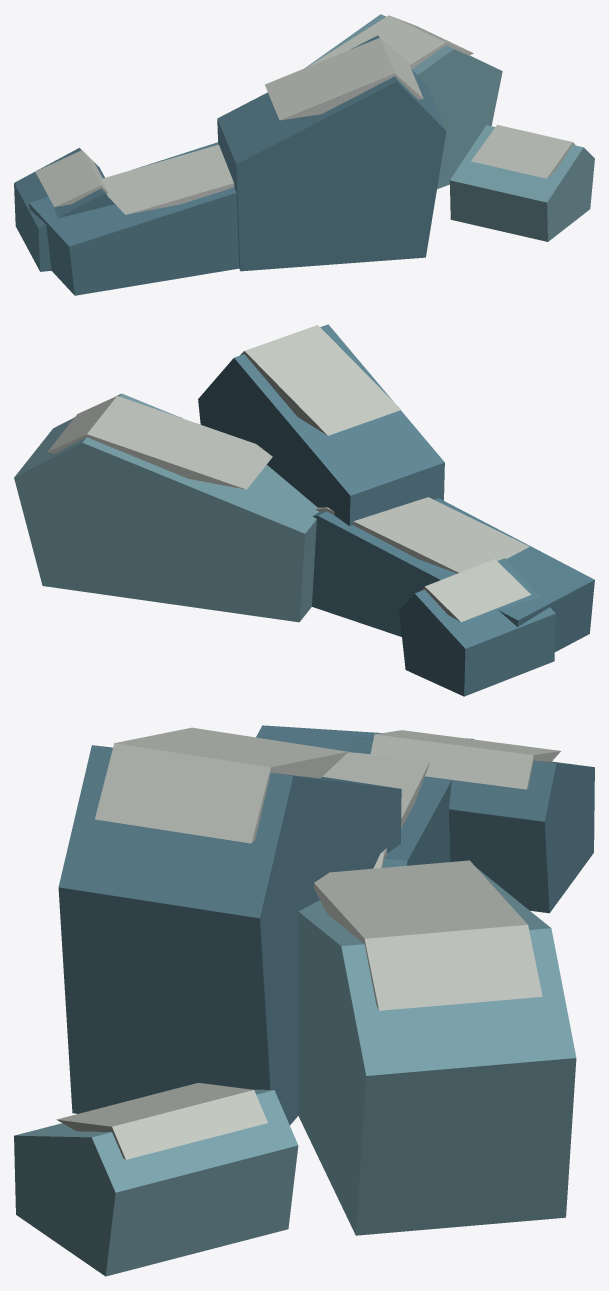
Rendered from Prop_Feature_Snow_FracturedIce_001.glb.
The picture shows the model from 3 angles, top to bottom: view 1: azimuth 30°, elevation 25°; view 2: azimuth 150°, elevation 25°; view 3: azimuth 270°, elevation 25°; orthographic projection. The views are drawn at different scales.
Parts seen in each view (by area): view 1: Prop_Feature_Snow_FracturedIce_001; view 2: Prop_Feature_Snow_FracturedIce_001; view 3: Prop_Feature_Snow_FracturedIce_001.
Part boxes in pixels (x1,y1,x2,y2): Prop_Feature_Snow_FracturedIce_001: (14, 14, 594, 295); Prop_Feature_Snow_FracturedIce_001: (14, 324, 594, 696); Prop_Feature_Snow_FracturedIce_001: (14, 725, 594, 1276).
Bounding box in the file's own units: 4.58 × 1.62 × 2.44.
